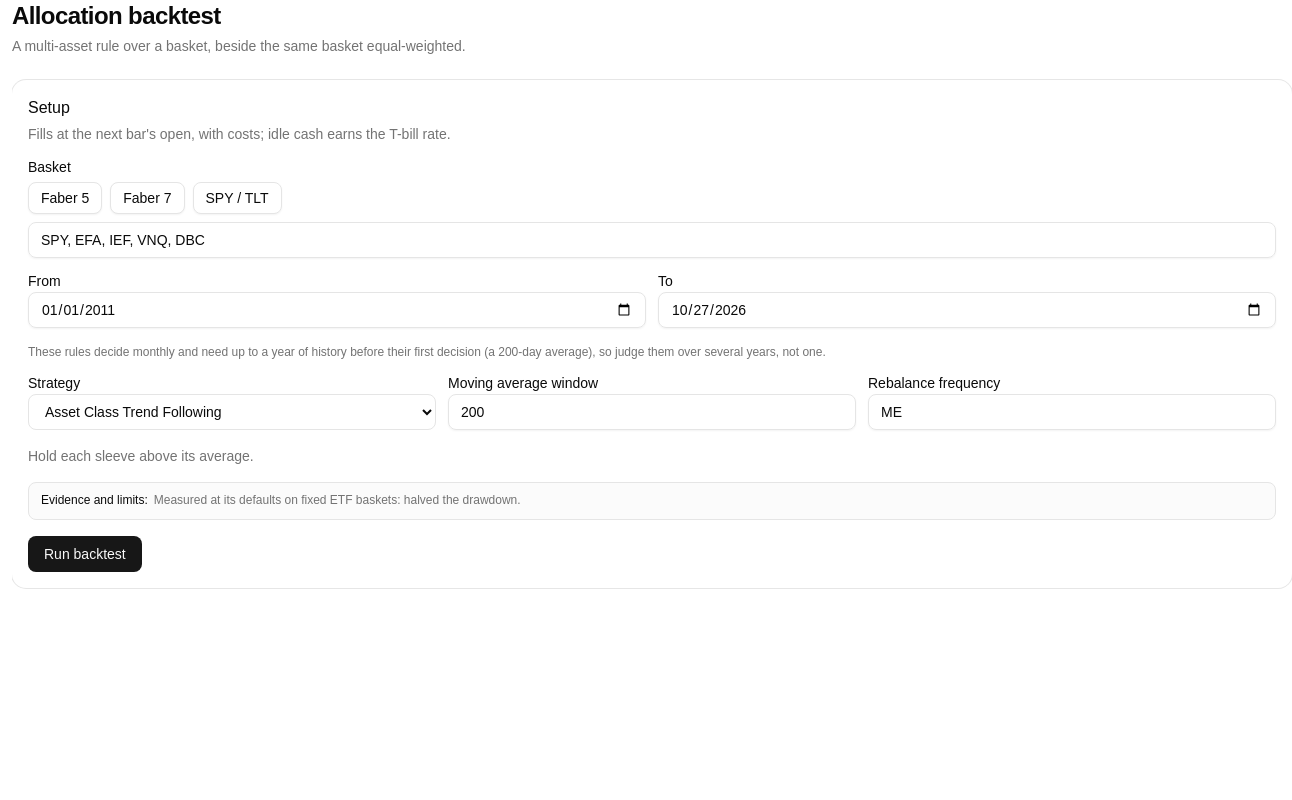
Test case: AllocationPage — running › reports the rule against SPY, with the basket beside it
The image size is (1292, 800).
Expected: the number field labelled "Moving average window" is shown, [448,394,856,430]
Click the button "Run backtest" at (85, 554), box [28,536,142,572]
(page scrolled)
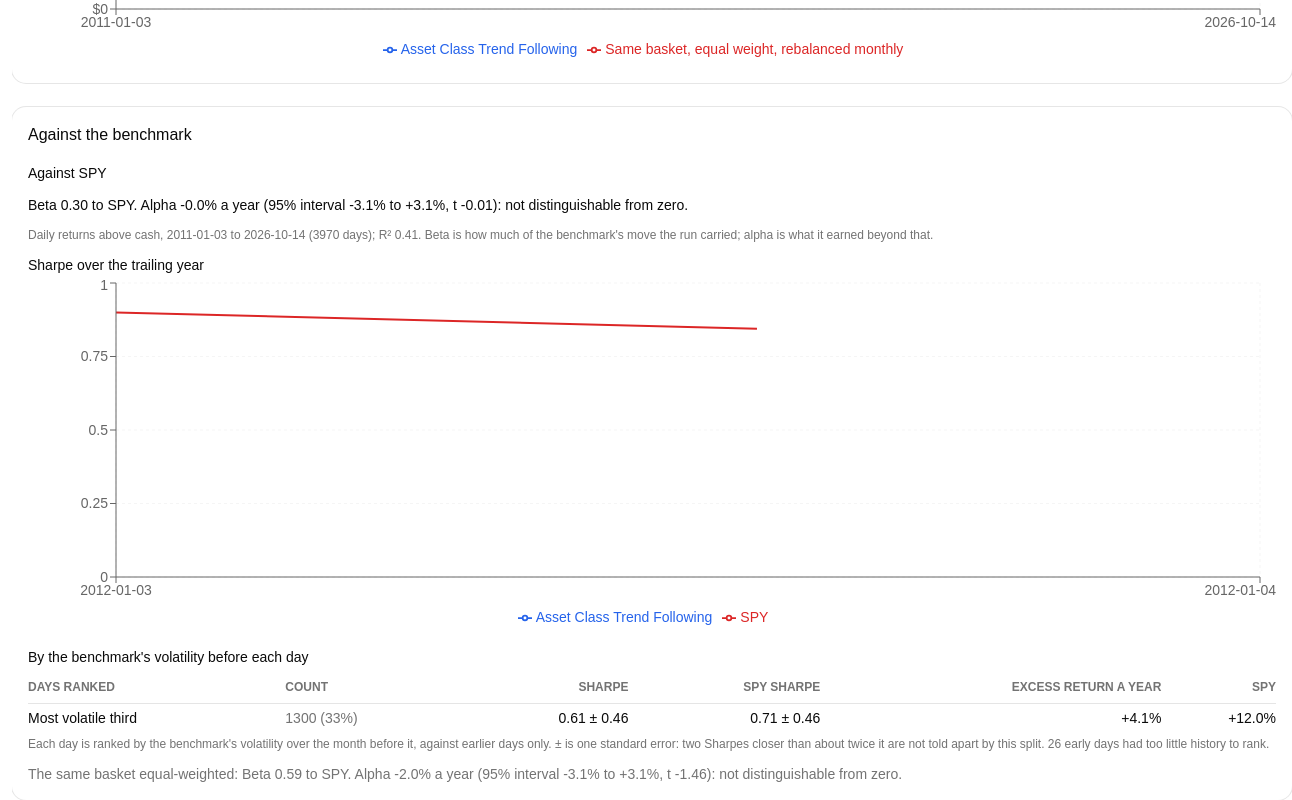
Expected: the text "Beta 0.30 to SPY" is shown, [28,196,688,212]
Expected: the text "The same basket equal-weighted: Beta 0.59 to SPY. Alpha -2.0% a year" is shown, [28,766,902,782]
